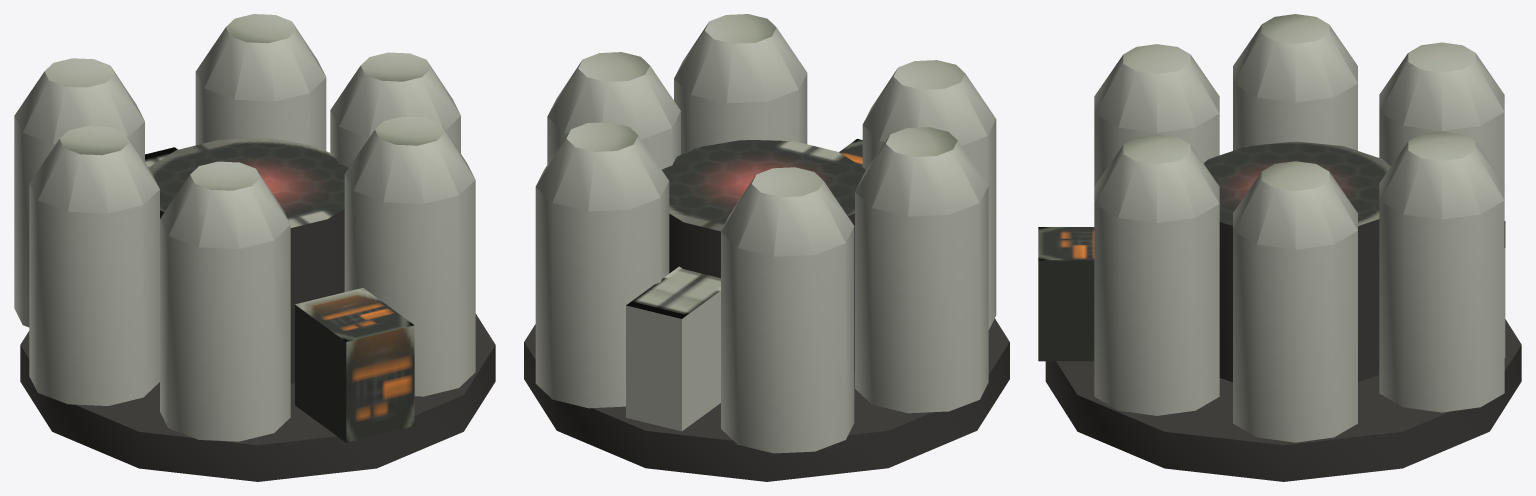
The model's file is Building_MechStabilizer.obj.
3 renders of one model, left to right at view 1: azimuth 30°, elevation 25°; view 2: azimuth 150°, elevation 25°; view 3: azimuth 270°, elevation 25°, orthographic. The views are drawn at different scales.
Visible parts, largest first — view 1: Body; view 2: Body; view 3: Body.
Part boxes in pixels (x1=…): Body: x1=14, y1=14, x2=495, y2=481; Body: x1=524, y1=14, x2=1009, y2=481; Body: x1=1038, y1=14, x2=1521, y2=481.
Size of the model in its own units: 0.9594 by 0.6 by 0.9544.
Materials: 1 (1 with a texture image).
